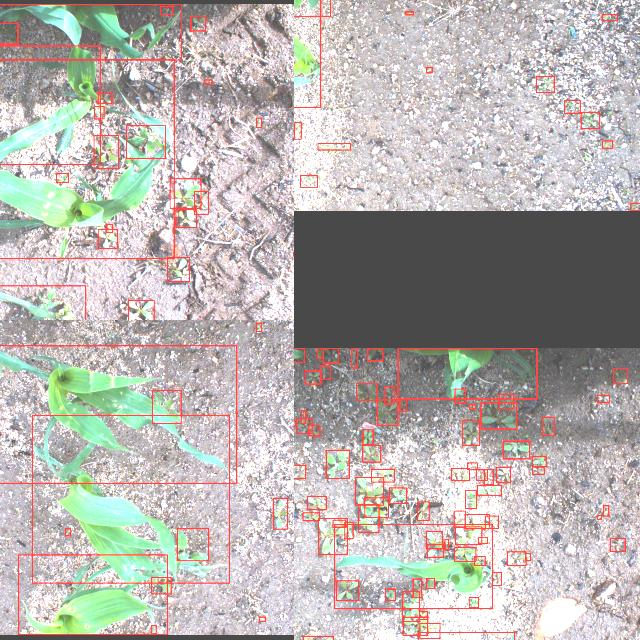crop: (0, 59, 173, 259), (32, 415, 228, 583), (0, 345, 236, 483), (334, 524, 492, 608), (17, 555, 166, 635), (0, 45, 99, 164), (0, 4, 181, 60), (398, 348, 536, 398), (0, 285, 85, 320)
weed: (126, 125, 164, 158), (318, 518, 347, 554), (176, 529, 208, 561), (480, 402, 516, 428), (170, 178, 200, 208), (152, 390, 180, 422), (92, 136, 118, 168), (355, 477, 383, 505), (326, 449, 348, 478), (358, 504, 378, 532), (167, 258, 189, 282), (127, 300, 153, 320), (272, 498, 288, 530), (502, 441, 530, 459), (454, 527, 482, 545), (377, 400, 398, 424), (402, 591, 418, 621), (364, 497, 388, 517), (402, 617, 428, 635), (336, 581, 358, 601), (462, 420, 478, 444), (175, 210, 195, 228), (97, 230, 117, 248), (356, 382, 376, 400), (0, 22, 17, 43), (464, 514, 488, 528), (362, 444, 380, 462), (371, 468, 394, 482), (580, 112, 600, 128), (151, 578, 171, 594), (193, 192, 207, 214), (454, 547, 476, 561), (536, 76, 554, 92), (425, 531, 441, 549), (388, 487, 406, 503), (506, 552, 526, 566), (419, 624, 439, 638), (306, 496, 326, 510), (296, 418, 312, 434), (426, 544, 444, 558), (477, 485, 501, 495), (464, 489, 476, 508), (563, 100, 579, 114), (613, 368, 627, 384), (498, 394, 514, 408), (496, 466, 510, 482), (322, 348, 338, 362), (451, 468, 469, 480), (541, 417, 553, 435), (190, 15, 204, 30), (304, 371, 320, 384), (412, 578, 422, 598), (316, 144, 349, 150), (610, 538, 624, 552), (300, 175, 316, 187), (366, 348, 382, 360), (454, 510, 464, 528), (418, 502, 428, 520), (384, 386, 394, 404), (484, 516, 498, 528), (97, 93, 111, 103), (454, 388, 464, 402), (531, 456, 545, 466), (362, 430, 372, 444), (320, 365, 330, 379), (294, 465, 304, 478), (302, 513, 318, 521), (344, 522, 352, 538), (483, 470, 492, 484), (492, 572, 501, 586), (294, 348, 303, 362), (93, 106, 103, 118), (351, 347, 357, 367), (308, 425, 320, 435), (294, 122, 300, 140), (384, 590, 394, 600), (476, 470, 486, 480), (474, 556, 484, 566), (468, 598, 478, 608), (160, 6, 172, 14), (56, 174, 68, 182), (596, 394, 608, 402), (531, 466, 543, 474), (398, 399, 406, 411), (602, 14, 616, 20), (332, 520, 346, 526), (467, 462, 477, 470), (426, 578, 434, 588), (630, 203, 640, 210), (419, 612, 427, 620), (602, 142, 612, 148), (602, 506, 608, 516), (317, 348, 323, 358), (301, 409, 305, 423), (478, 537, 487, 543), (106, 224, 112, 232), (64, 528, 70, 536), (150, 626, 156, 634), (256, 118, 260, 128), (256, 322, 260, 332), (444, 540, 448, 550), (259, 616, 265, 622), (524, 554, 530, 560), (203, 80, 211, 84), (426, 68, 432, 72), (469, 404, 475, 408), (405, 12, 413, 14), (596, 515, 600, 519), (294, 420, 295, 425)
